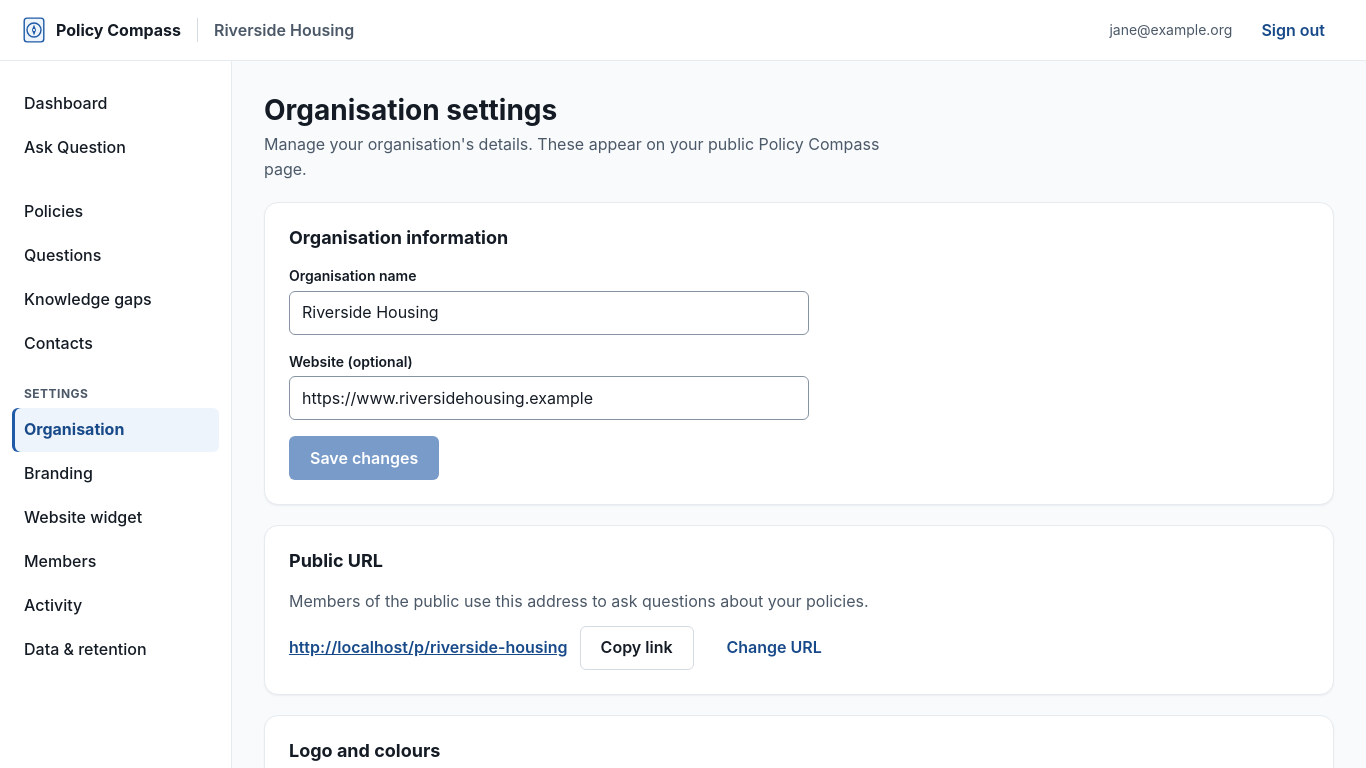
Test: Organisation settings › lets an administrator edit and save details
Expected: the button "Save changes" is disabled, [289, 436, 439, 480]
Replace the text in the field labelled "Organisation name" with "Riverside Homes": (549, 313) [289, 291, 809, 335]
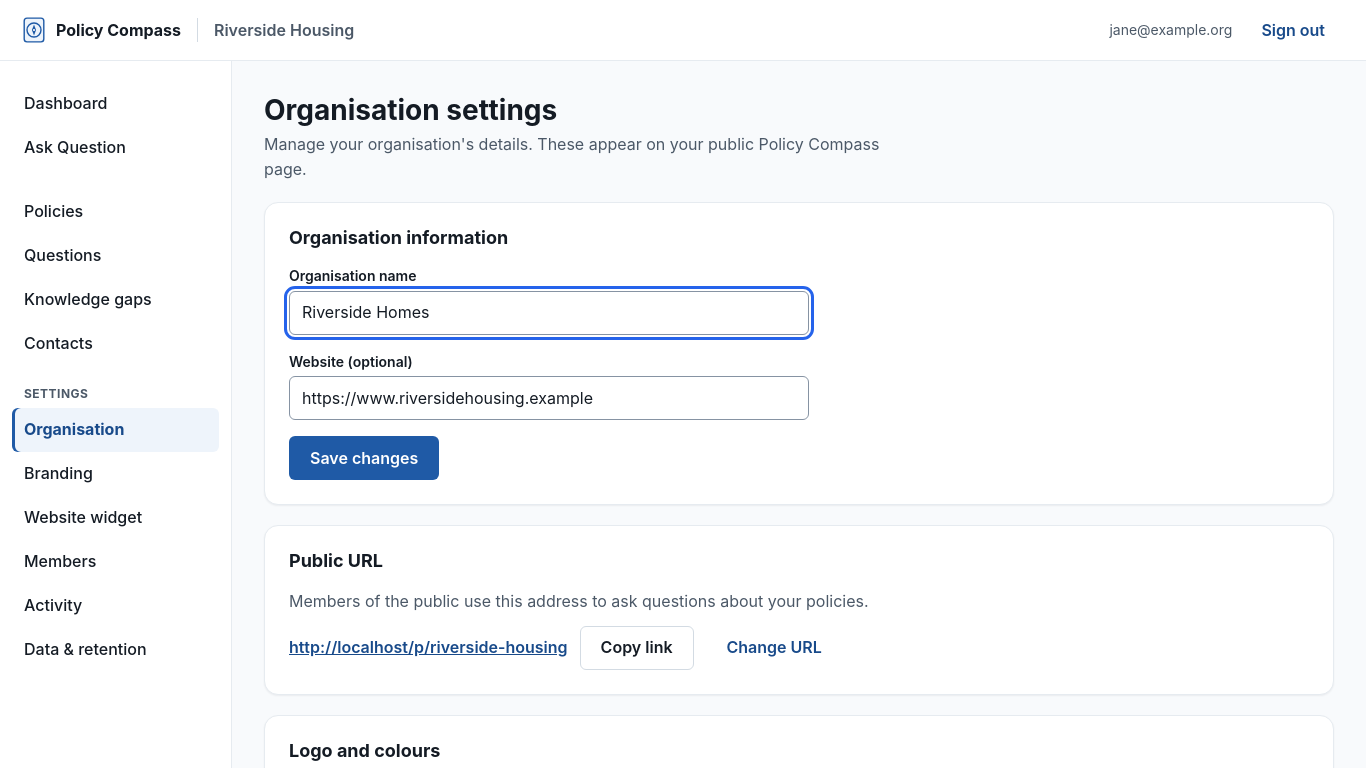
Clear the field labelled "Website (optional)": (549, 398) [289, 376, 809, 420]
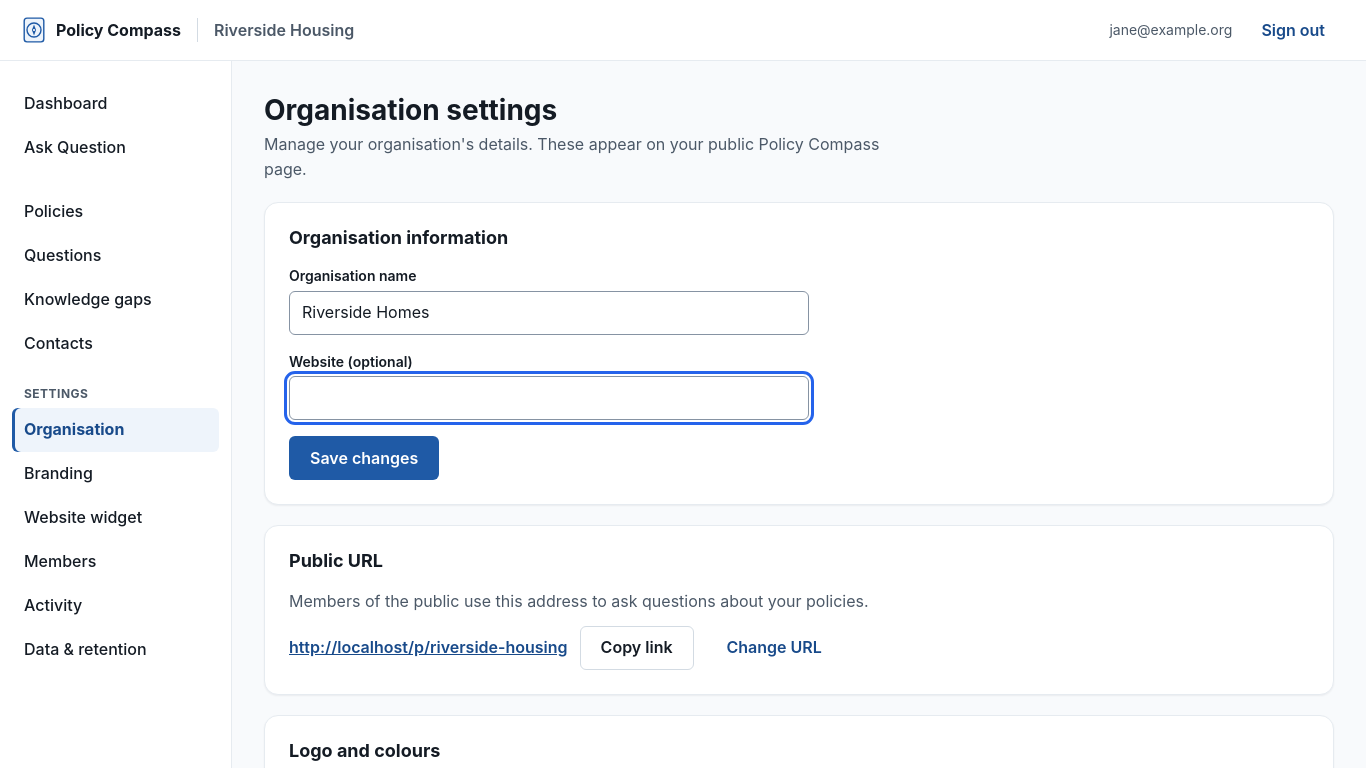
Click the button "Save changes": (364, 458) [289, 436, 439, 480]
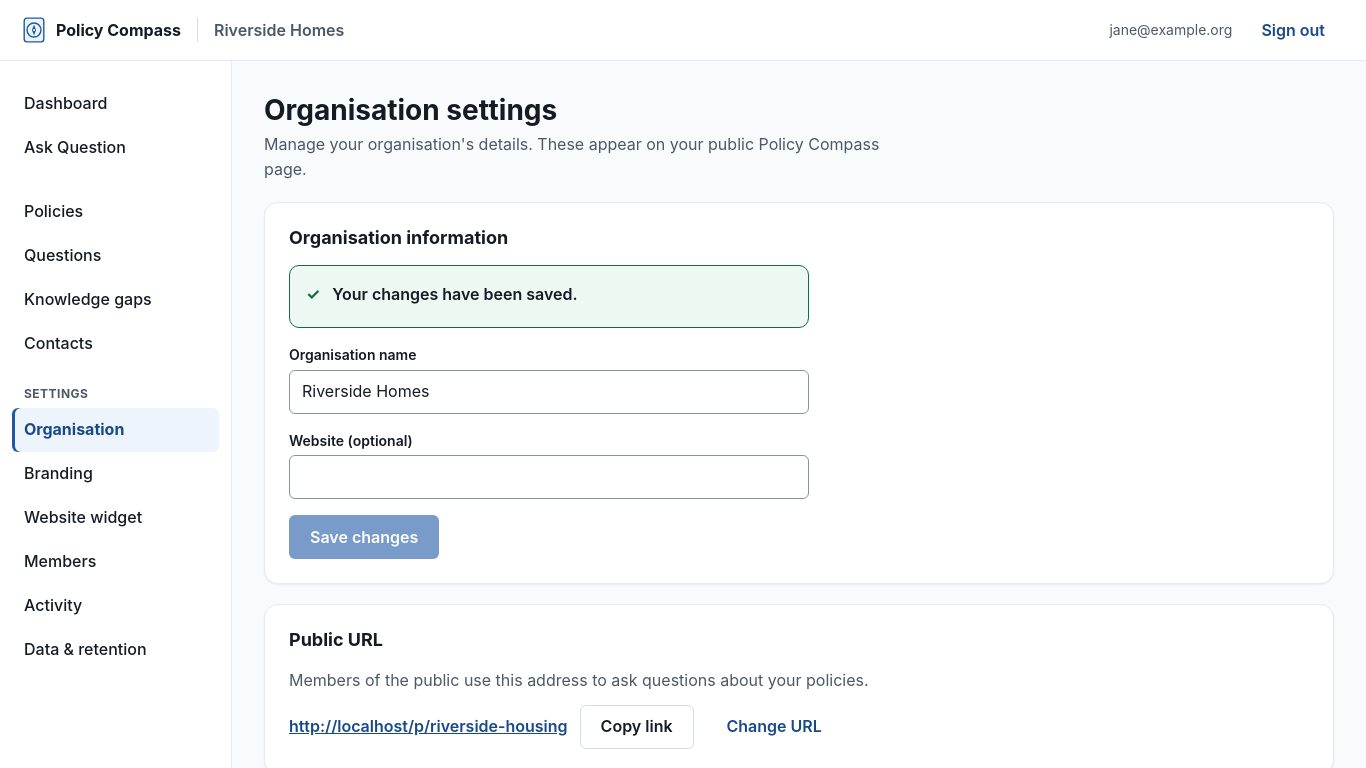
Expected: the text "Your changes have been saved." is shown, [332, 282, 578, 307]
Expected: the text "Riverside Homes" is shown, [197, 18, 344, 42]
